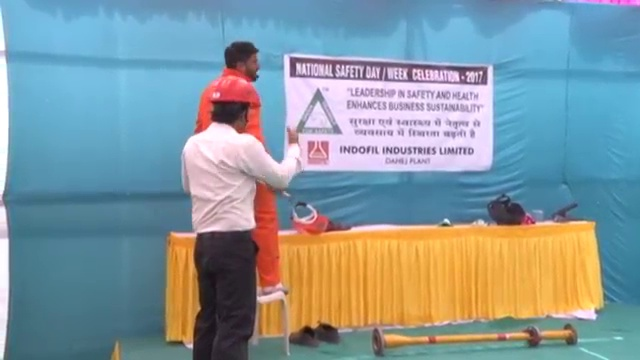helmet: (209, 74, 253, 107)
helmet_off: (223, 41, 261, 81)
helmet_on: (208, 74, 253, 134)
person: (178, 75, 299, 360), (199, 39, 291, 299)
